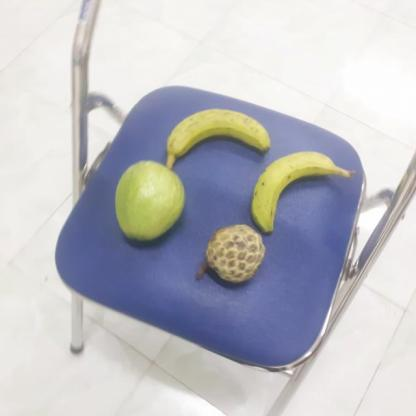annona: (196, 224, 266, 282)
banana: (247, 151, 338, 229), (160, 111, 269, 165)
guava: (110, 160, 184, 242)
